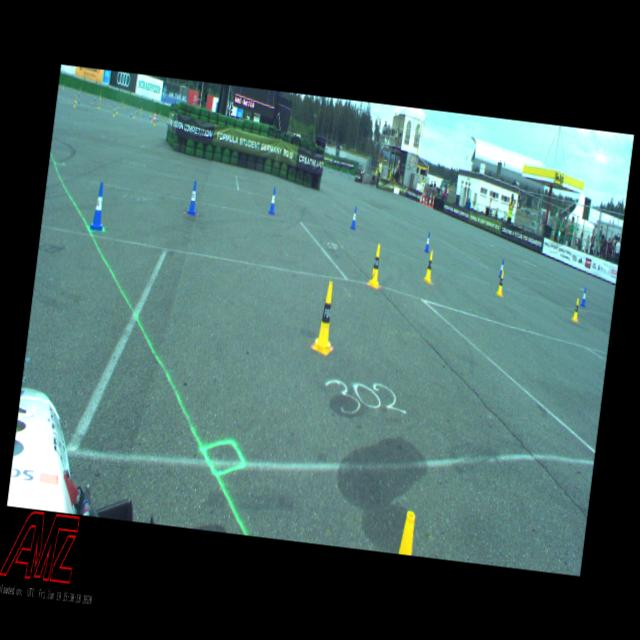blue_cone: (90, 181, 108, 230), (186, 180, 198, 214), (268, 187, 277, 214), (350, 207, 358, 230), (579, 288, 587, 308), (424, 232, 431, 252), (498, 259, 503, 277)
large_orange_cone: (428, 192, 432, 207), (422, 190, 426, 203), (424, 194, 428, 206), (418, 194, 422, 203), (432, 194, 434, 208)
yellow_cone: (312, 280, 339, 354), (398, 510, 416, 554), (367, 243, 384, 289), (423, 250, 435, 284), (570, 298, 580, 322), (496, 270, 505, 296)
